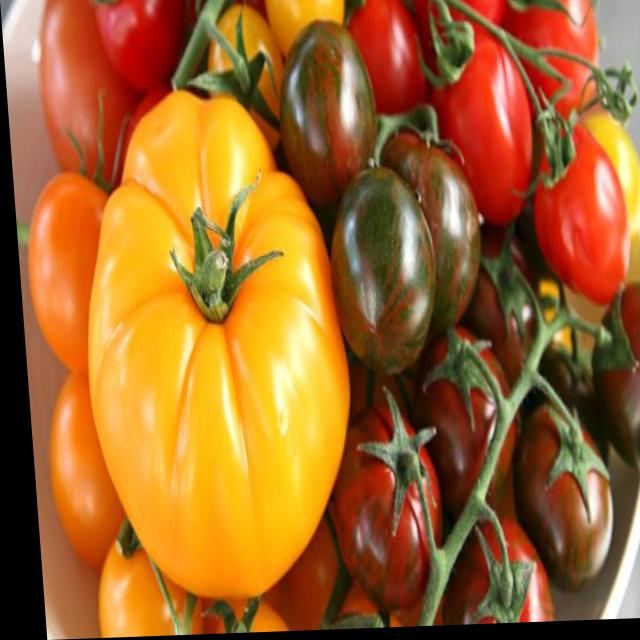sari: (74, 69, 358, 597)
